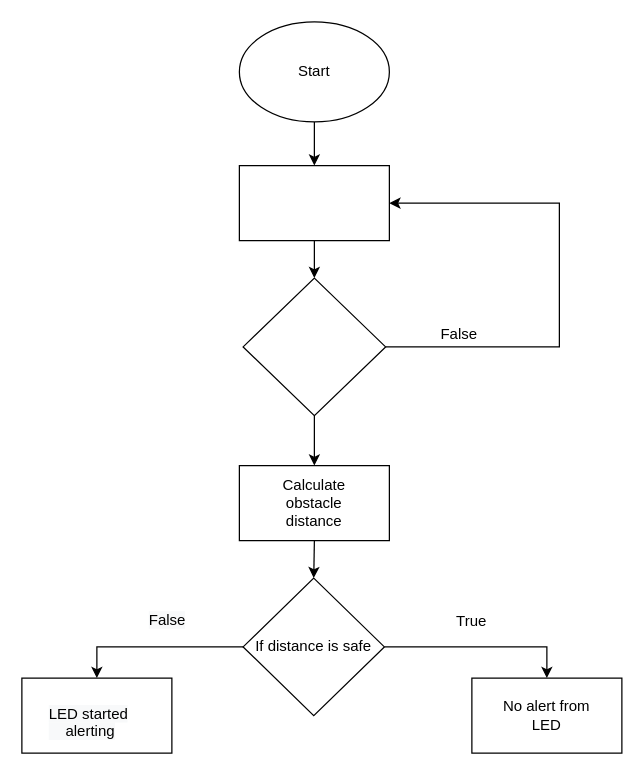
Some shapes in this 644 by 775 pixel diagram are drawn without their labels. Here are the shapes that lost their labels. From the top down, the box of each, then its label:
(238, 164, 389, 241): Transmit IR signal
(242, 277, 386, 416): If Proximity Sensor received the signal
